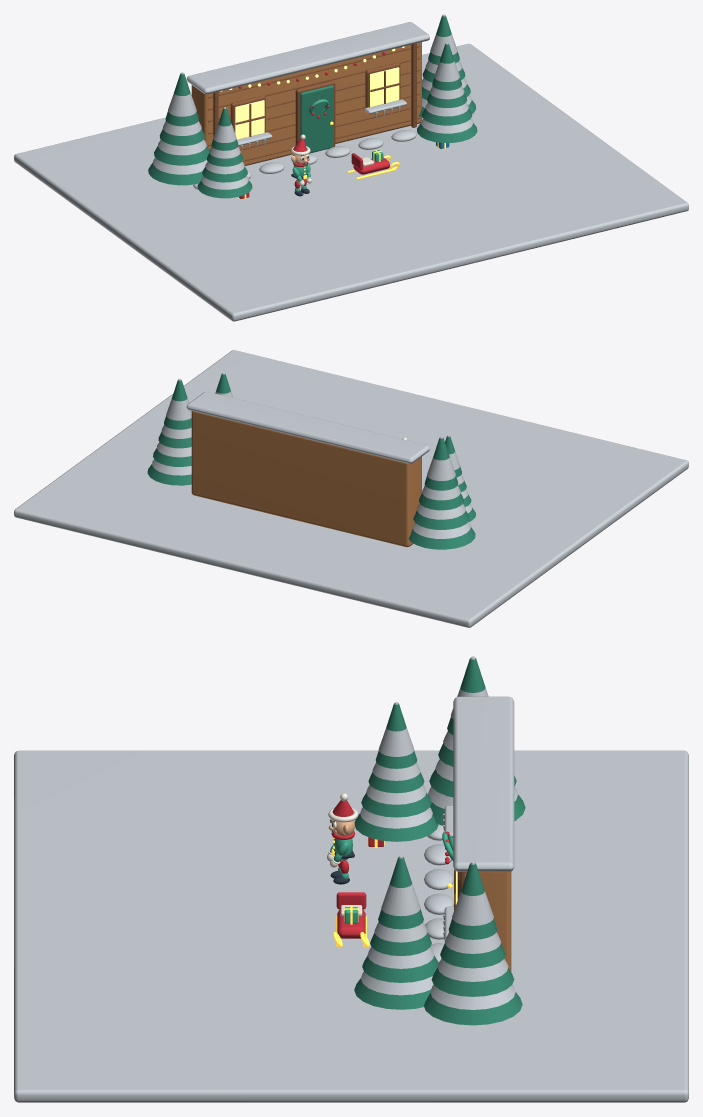
Rendered from chapter-17.glb.
3 renders of one model, top to bottom at view 1: azimuth 30°, elevation 25°; view 2: azimuth 150°, elevation 25°; view 3: azimuth 270°, elevation 25°, orthographic. The views are drawn at different scales.
Parts seen in each view (by area): view 1: Schneeboden, Werkstatt, Schneegesims, Wichteltür, Warmes Fenster, Warmes Fenster.001, Tannenzweig.004, Tannenzweig.008, Tannenzweig.009, Türrahmen, Tannenzweig.011, Schnee.011 (+7 smaller); view 2: Schneeboden, Werkstatt, Schneegesims, Tannenzweig.008, Tannenzweig.009, Tannenzweig.011, Schnee.008, Schnee.011, Tannenzweig.015, Tannenzweig.012, Tannenzweig.010, Schnee.009 (+1 smaller); view 3: Schneeboden, Schneegesims, Werkstatt, Tannenzweig.012, Tannenzweig.013, Tannenzweig.015, Tannenzweig, Schnee.012, Tannenzweig.005, Tannenzweig.004, Schnee.015, Tannenzweig.007 (+15 smaller).
Part boxes in pixels (x1,y1,x2,y2): Schneeboden: (14,43,688,321); Werkstatt: (191,42,421,165); Schneegesims: (186,22,429,94); Wichteltür: (300,85,333,153); Warmes Fenster: (235,100,264,139); Warmes Fenster.001: (370,67,399,106); Tannenzweig.004: (417,122,477,142); Tannenzweig.008: (148,163,202,185); Tannenzweig.009: (154,146,209,165); Türrahmen: (295,81,335,146); Tannenzweig.011: (165,73,198,126); Schnee.011: (168,72,196,116); Schneeboden: (14,350,688,627); Werkstatt: (191,411,421,547); Schneegesims: (186,391,429,463); Tannenzweig.008: (408,527,475,549); Tannenzweig.009: (413,510,469,529); Tannenzweig.011: (424,437,458,490); Schnee.008: (412,522,470,538); Schnee.011: (427,436,455,480); Tannenzweig.015: (164,380,191,429); Tannenzweig.012: (147,464,191,485); Tannenzweig.010: (419,493,463,510); Schnee.009: (417,504,465,519); Schneeboden: (14,750,688,1102); Schneegesims: (453,696,514,871); Werkstatt: (466,871,511,971); Tannenzweig.012: (424,992,522,1025); Tannenzweig.013: (431,968,514,996); Tannenzweig.015: (448,863,497,939); Tannenzweig: (354,813,438,841); Schnee.012: (430,985,515,1009); Tannenzweig.005: (362,955,438,982); Tannenzweig.004: (354,978,430,1009); Schnee.015: (452,861,493,925); Tannenzweig.007: (378,857,423,929).
Bounding box in the file's own units: 18 × 4.39 × 15.
